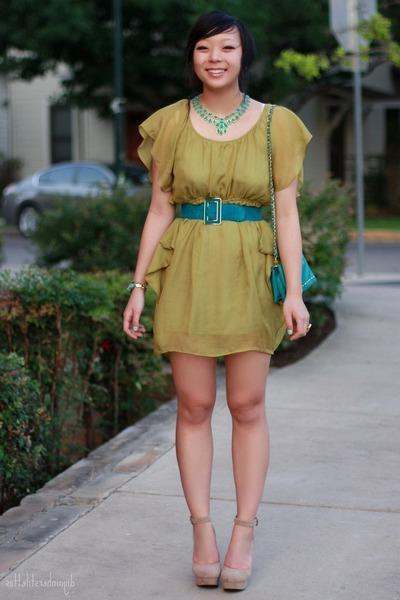dress: (135, 95, 315, 359)
